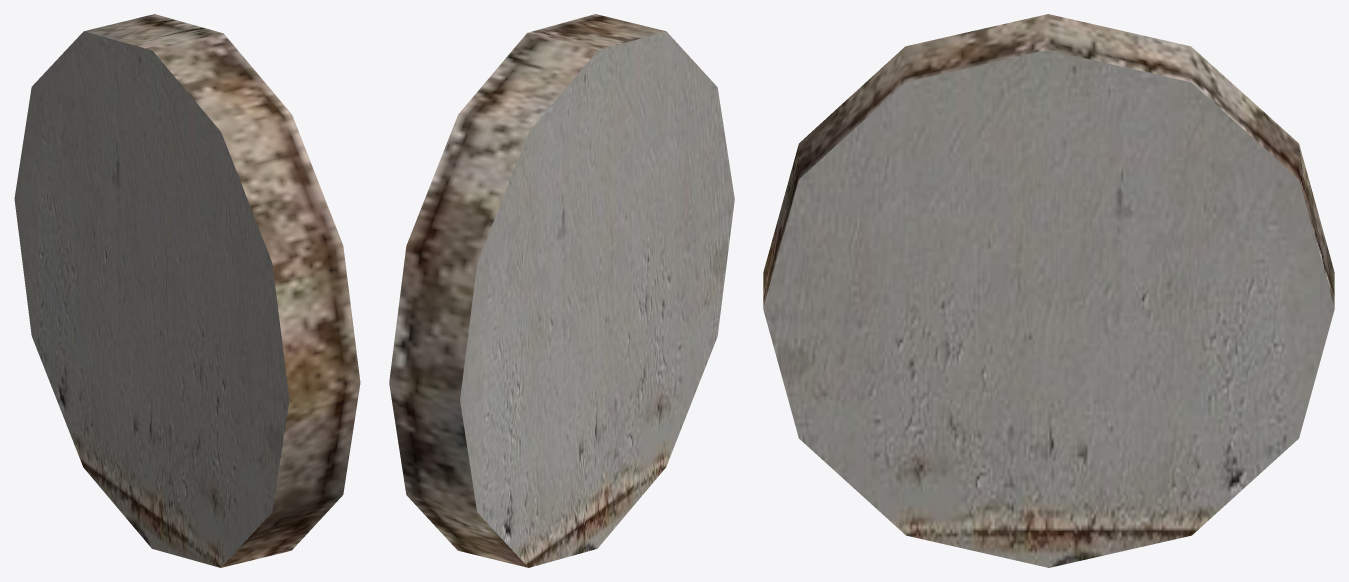
The model's file is pipe03_connector01.glb.
3 views of the same model, side by side, from view 1: azimuth 30°, elevation 25°; view 2: azimuth 150°, elevation 25°; view 3: azimuth 270°, elevation 25° (orthographic). The views are drawn at different scales.
Visible parts, largest first — view 1: 0_pipesystem01a_skin1; view 2: 0_pipesystem01a_skin1; view 3: 0_pipesystem01a_skin1.
Part boxes in pixels (<box>): 0_pipesystem01a_skin1: <box>14,14,360,567</box>; 0_pipesystem01a_skin1: <box>389,14,734,567</box>; 0_pipesystem01a_skin1: <box>763,14,1334,567</box>.
Size of the model in its own units: 0.0895 by 0.6002 by 0.6002.
1 material, 1 textured.
